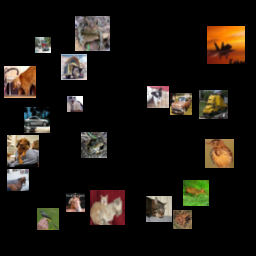airplane: (28, 54, 66, 92), (53, 202, 91, 240), (92, 75, 114, 97)
automobile: (97, 172, 135, 210), (5, 73, 24, 92)
cat: (170, 18, 208, 56), (190, 167, 222, 199), (99, 105, 131, 137), (215, 202, 241, 228)
dog: (24, 120, 53, 149), (196, 122, 225, 151), (15, 9, 41, 35), (0, 195, 19, 214), (180, 59, 196, 75)
frog: (98, 213, 133, 248)
ship: (106, 36, 135, 65), (65, 2, 87, 24), (192, 83, 211, 102), (42, 100, 58, 116)
